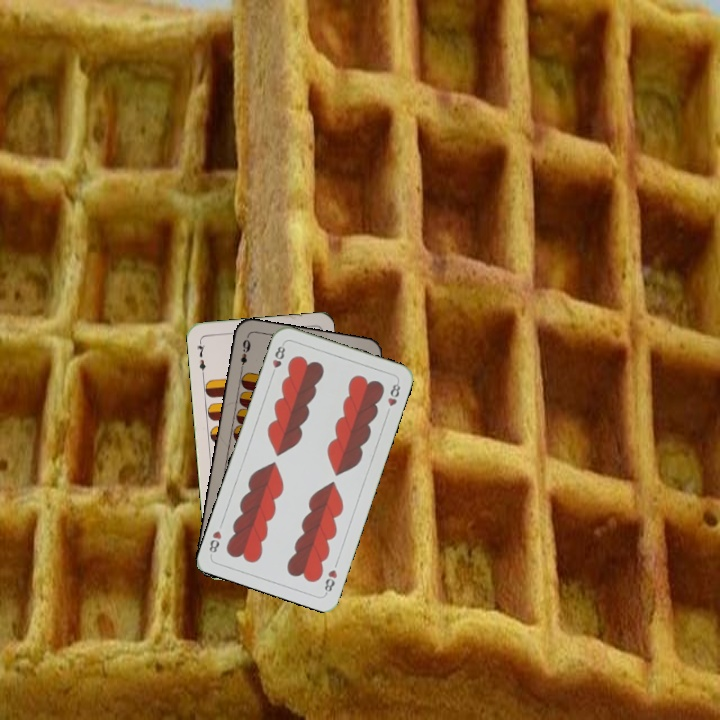E7: (193, 337, 208, 377)
E9: (236, 335, 253, 374)
H8: (267, 339, 288, 379), (320, 565, 340, 596)
